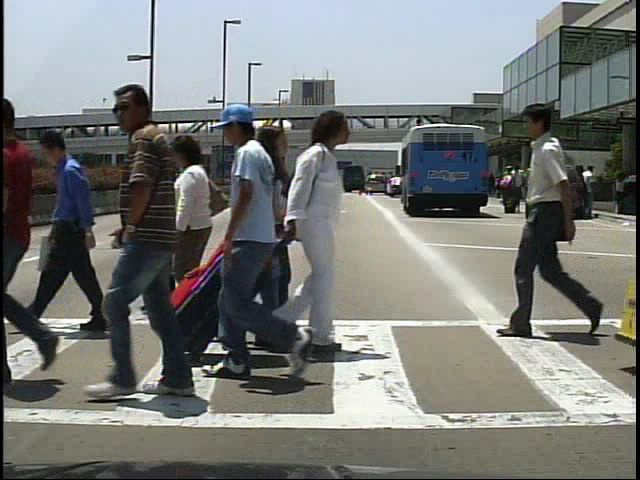person: (83, 84, 241, 415), (216, 105, 324, 388), (504, 94, 594, 340), (27, 122, 123, 335), (284, 106, 359, 356), (1, 92, 60, 391), (244, 122, 304, 360), (127, 130, 199, 322), (160, 133, 227, 328), (241, 182, 282, 348), (507, 165, 529, 215), (582, 163, 602, 218), (498, 166, 516, 219)
